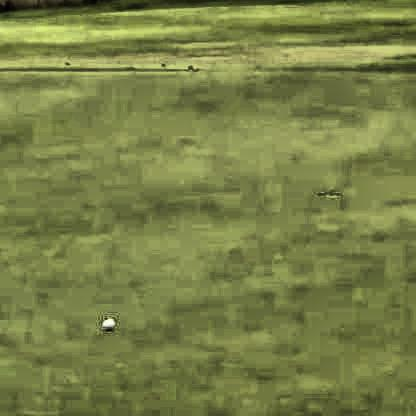golfball: (99, 315, 113, 331)
